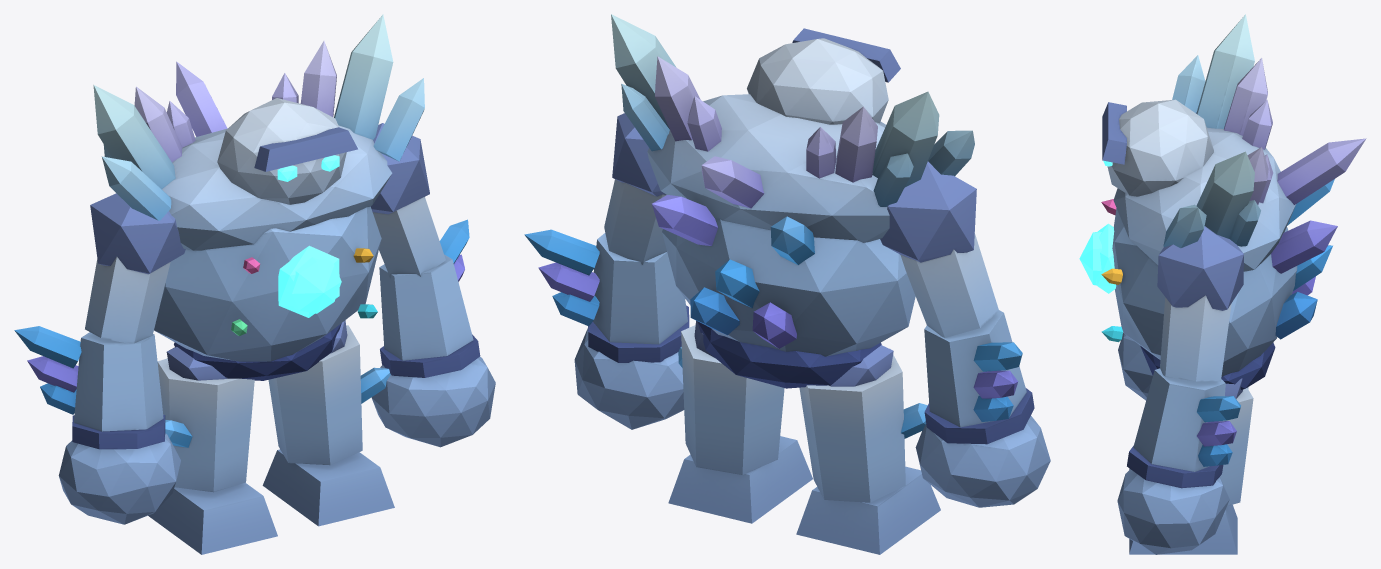
File: Golem.fbx
3 renders of one model, left to right at view 1: azimuth 30°, elevation 25°; view 2: azimuth 150°, elevation 25°; view 3: azimuth 270°, elevation 25°, orthographic. The views are drawn at different scales.
Parts seen in each view (by area): view 1: Body, LeftArm, RightArm, LeftLeg, RightLeg, Core; view 2: Body, LeftArm, RightArm, LeftLeg, RightLeg; view 3: Body, RightArm, RightLeg, Core, LeftArm.
Boxes of the visible parts, bbox=[...] form: Body: bbox=[93, 14, 424, 380]; LeftArm: bbox=[14, 193, 185, 524]; RightArm: bbox=[370, 123, 495, 447]; LeftLeg: bbox=[148, 347, 277, 554]; RightLeg: bbox=[262, 320, 394, 526]; Core: bbox=[277, 155, 341, 317]; Body: bbox=[611, 14, 974, 388]; LeftArm: bbox=[880, 161, 1050, 507]; RightArm: bbox=[524, 113, 689, 429]; LeftLeg: bbox=[796, 345, 940, 554]; RightLeg: bbox=[668, 320, 812, 523]; Body: bbox=[1101, 14, 1366, 389]; RightArm: bbox=[1117, 226, 1243, 554]; RightLeg: bbox=[1129, 378, 1253, 554]; Core: bbox=[1079, 160, 1116, 293]; LeftArm: bbox=[1118, 112, 1196, 400].
Size of the model in its own units: 22.53 by 20.78 by 12.7.
Materials: 6 (5 with a texture image).
